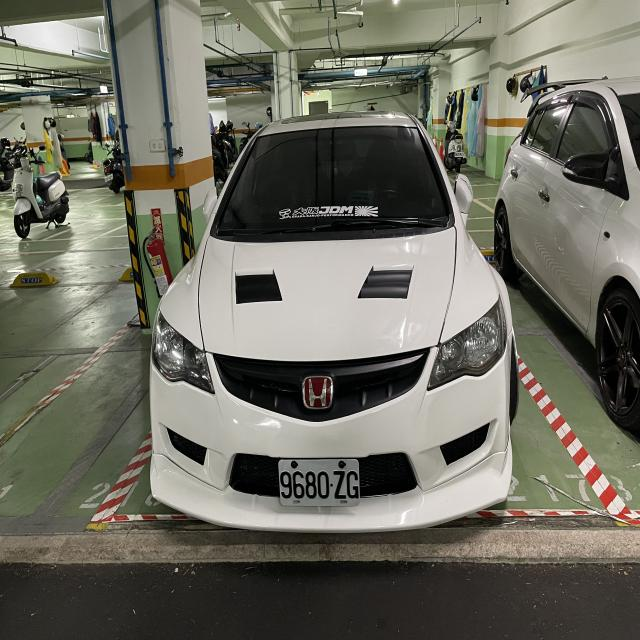license-plate: (276, 457, 361, 509)
